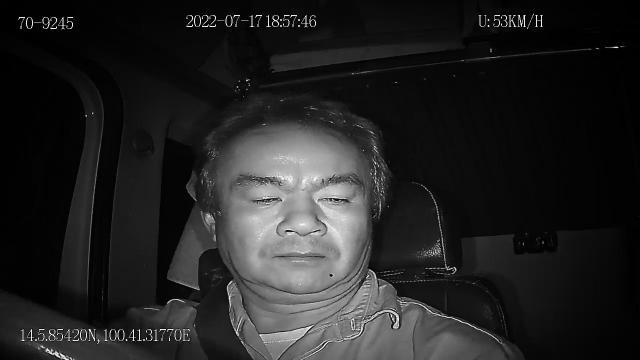SafeDriving: (236, 181, 290, 212), (310, 182, 362, 213)
Seatbelt: (192, 276, 255, 360)
